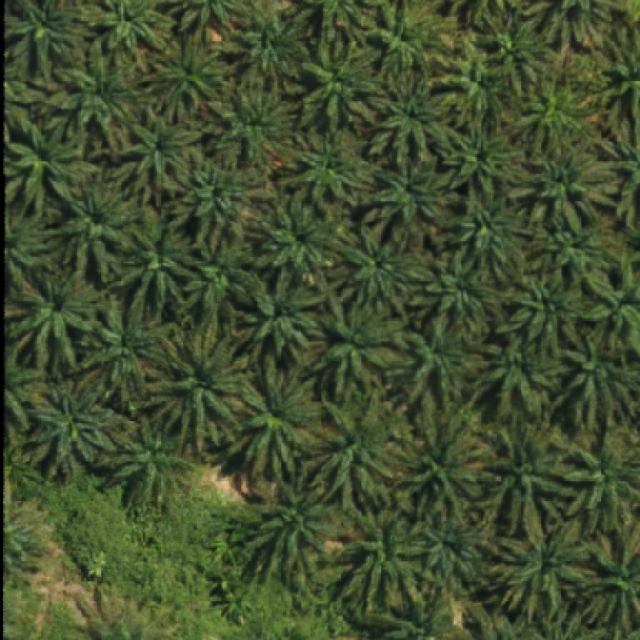Kelapa_Sawit: (139, 319, 261, 453), (225, 354, 330, 480), (23, 372, 142, 480), (496, 504, 598, 628), (476, 410, 576, 535), (242, 478, 352, 587), (395, 407, 497, 522), (305, 392, 403, 510), (340, 498, 438, 616), (80, 289, 180, 402), (310, 297, 415, 401), (514, 132, 618, 235), (359, 145, 464, 246), (10, 258, 107, 367), (549, 318, 640, 431), (106, 206, 196, 320), (51, 171, 144, 280), (99, 412, 199, 512), (204, 69, 302, 171), (429, 26, 528, 126), (51, 39, 146, 143), (336, 221, 438, 317), (232, 266, 330, 362), (364, 62, 458, 161), (171, 142, 258, 248), (293, 36, 385, 136), (140, 24, 232, 124), (474, 324, 574, 416), (402, 308, 486, 414), (278, 123, 382, 208), (561, 427, 640, 536), (435, 109, 528, 198), (499, 266, 587, 359), (227, 0, 309, 98), (119, 108, 208, 198), (475, 7, 562, 99), (411, 246, 507, 328), (178, 228, 255, 330), (453, 185, 525, 289), (421, 496, 493, 592), (510, 78, 588, 165), (255, 200, 342, 278), (527, 213, 615, 279)
